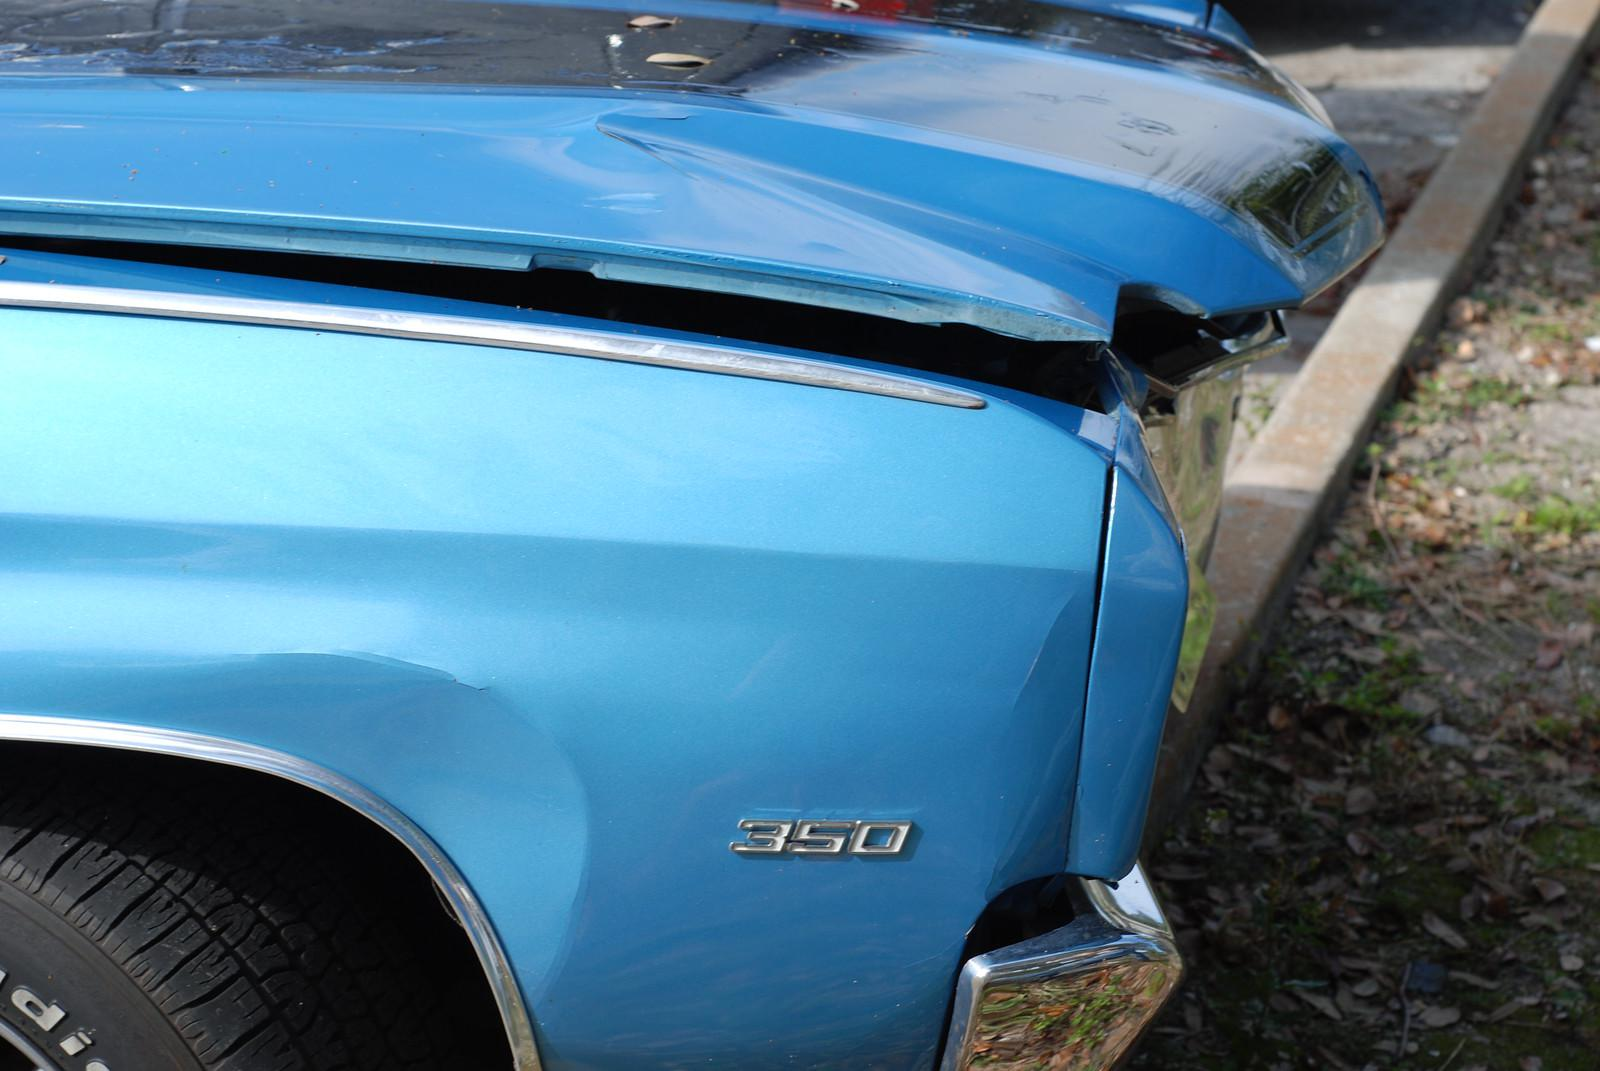bonnet-dent: (38, 0, 1403, 463)
